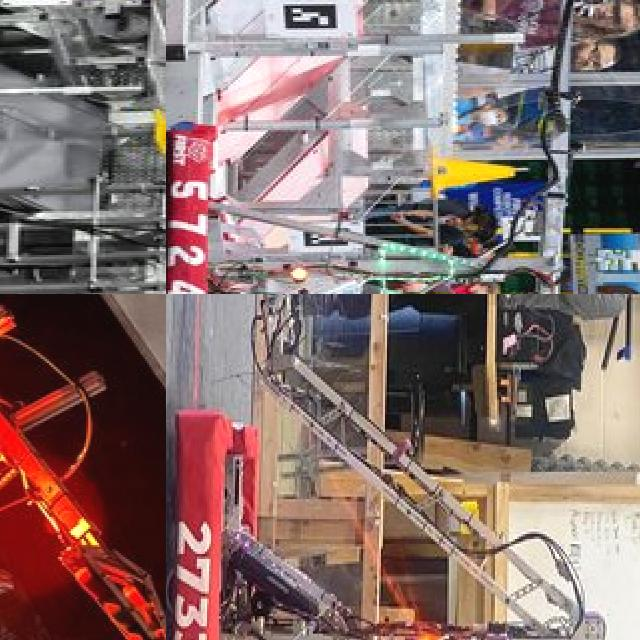FRC-Robots: (166, 294, 633, 640), (166, 0, 640, 294), (0, 298, 166, 640), (0, 0, 166, 74)
